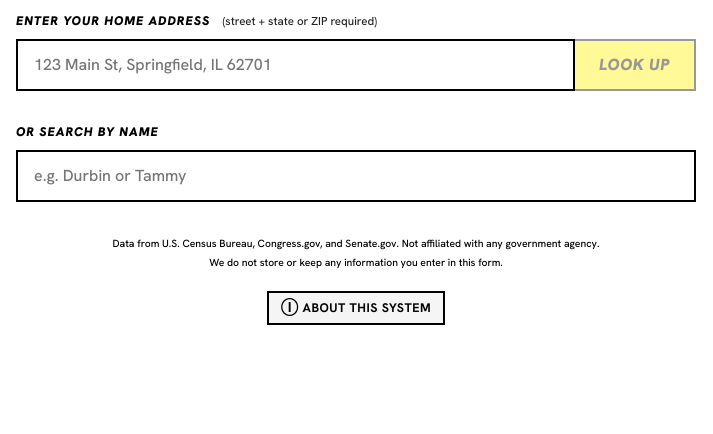
Test: hookErrorBanner — FR-37 envelope propagation (AC-44.17 / T-097) › VoterInfoWidget + useAddressLookup on 429: full envelope in ErrorBanner
Type "2000 S State St, Chicago, IL 60616" into the field labelled "Enter your home address (street + state or ZIP required)" at (295, 65), box [16,39,575,91]
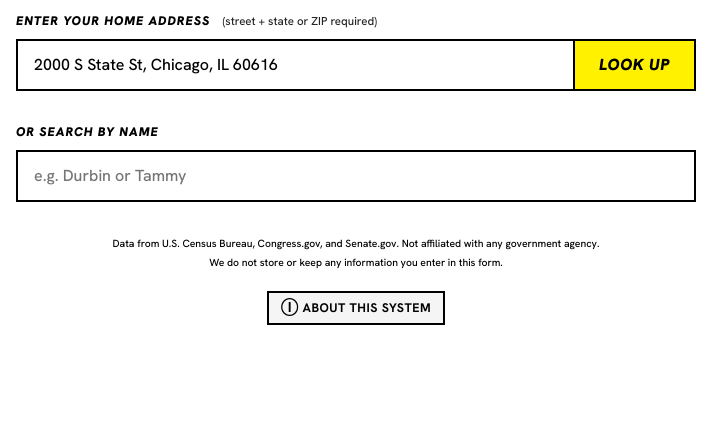
Click the button "Look Up" at (635, 65), box [575,39,696,91]
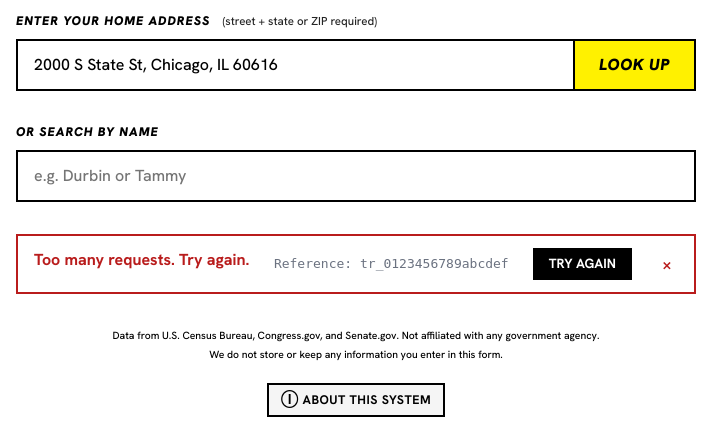
Expected: the message "Too many requests. Try again. Reference: tr_0123456789abcdef Try again ×" is shown, [16,234,696,294]
Expected: the button "Try again" is shown, [533,248,632,280]
